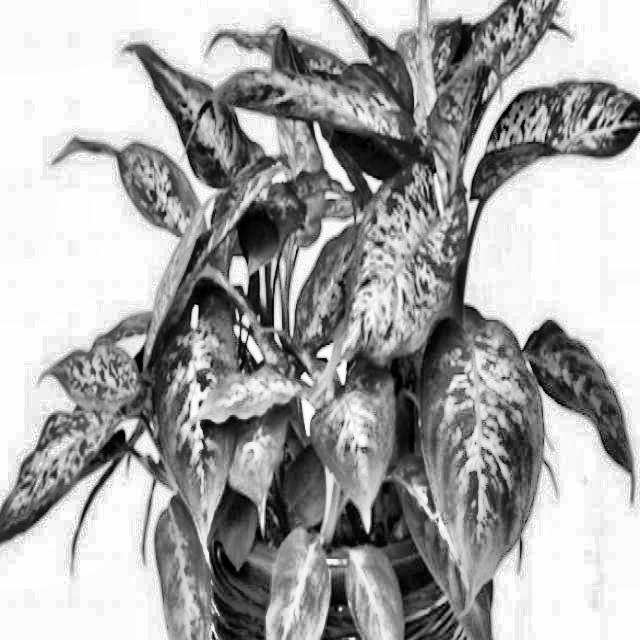plants: (116, 52, 540, 534)
